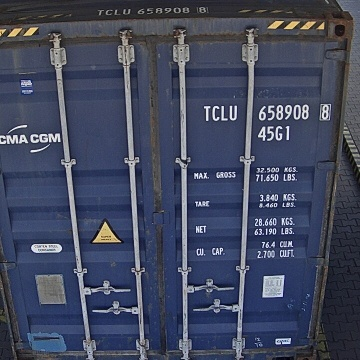serial_id: (204, 103, 331, 120)
